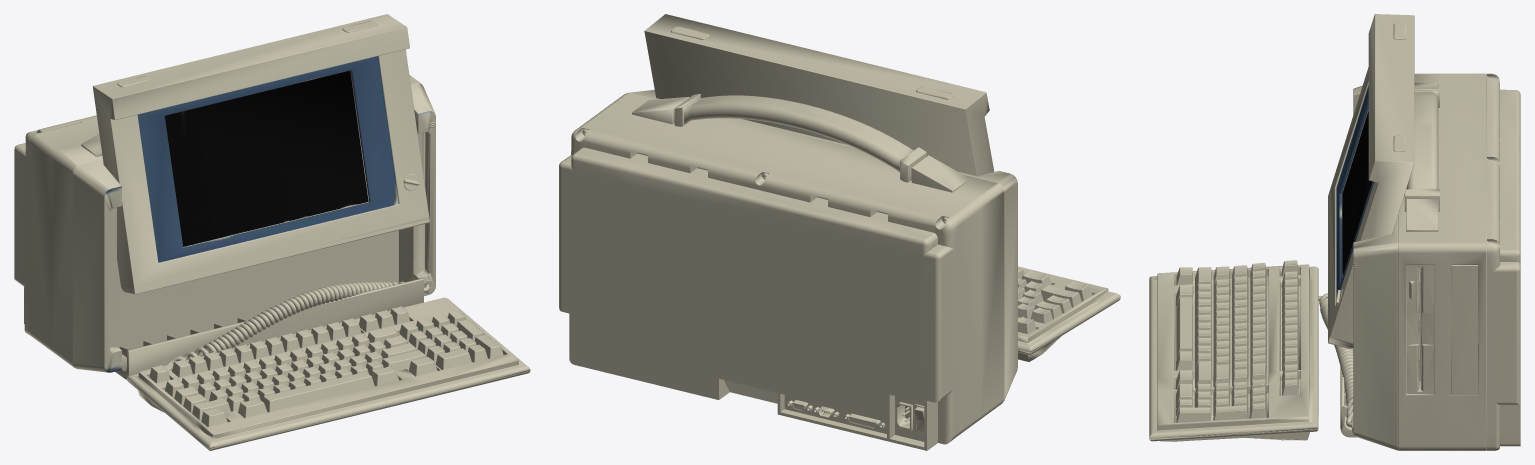
3 views of the same model, side by side, from view 1: azimuth 30°, elevation 25°; view 2: azimuth 150°, elevation 25°; view 3: azimuth 270°, elevation 25° (orthographic). The views are drawn at different scales.
Visible parts, largest first — view 1: BM86_Portable; view 2: BM86_Portable; view 3: BM86_Portable.
Boxes of the visible parts, bbox=[...] form: BM86_Portable: bbox=[14, 14, 530, 450]; BM86_Portable: bbox=[559, 14, 1120, 450]; BM86_Portable: bbox=[1149, 14, 1520, 450].
Bounding box in the file's own units: 0.4441 × 0.3276 × 0.3947.
1 material, 1 textured.
